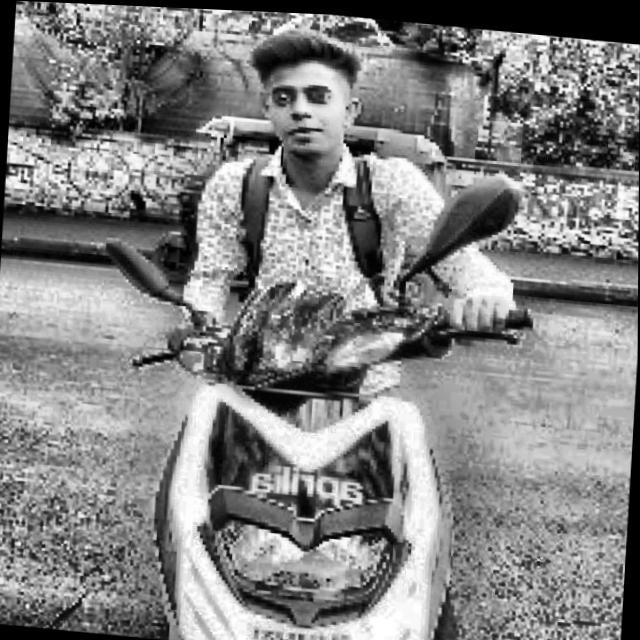motorcycle: (62, 127, 541, 640)
